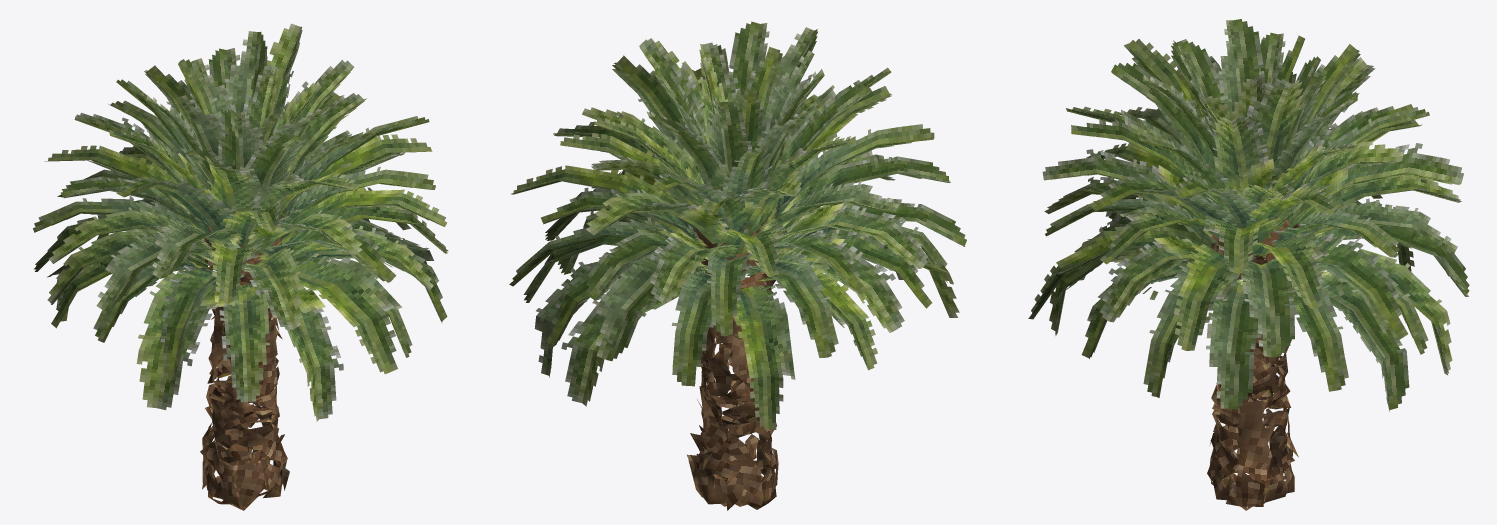
The model's file is canarypalm.glb.
3 renders of one model, left to right at view 1: azimuth 30°, elevation 25°; view 2: azimuth 150°, elevation 25°; view 3: azimuth 270°, elevation 25°, orthographic. The views are drawn at different scales.
Visible parts, largest first — view 1: b_fronds, a_trunk.001; view 2: b_fronds, a_trunk.001; view 3: b_fronds, a_trunk.001.
Boxes of the visible parts, x1,y1,x2,y2 form: b_fronds: [33, 23, 448, 421]; a_trunk.001: [200, 67, 289, 510]; b_fronds: [509, 21, 966, 429]; a_trunk.001: [687, 59, 778, 510]; b_fronds: [1028, 19, 1469, 411]; a_trunk.001: [1207, 78, 1299, 510].
Bounding box in the file's own units: 8.39 × 9.04 × 8.22.
2 materials, 2 textured.
